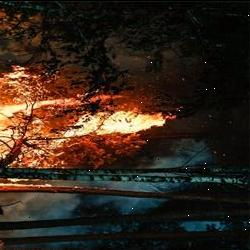fire: (0, 72, 187, 167)
